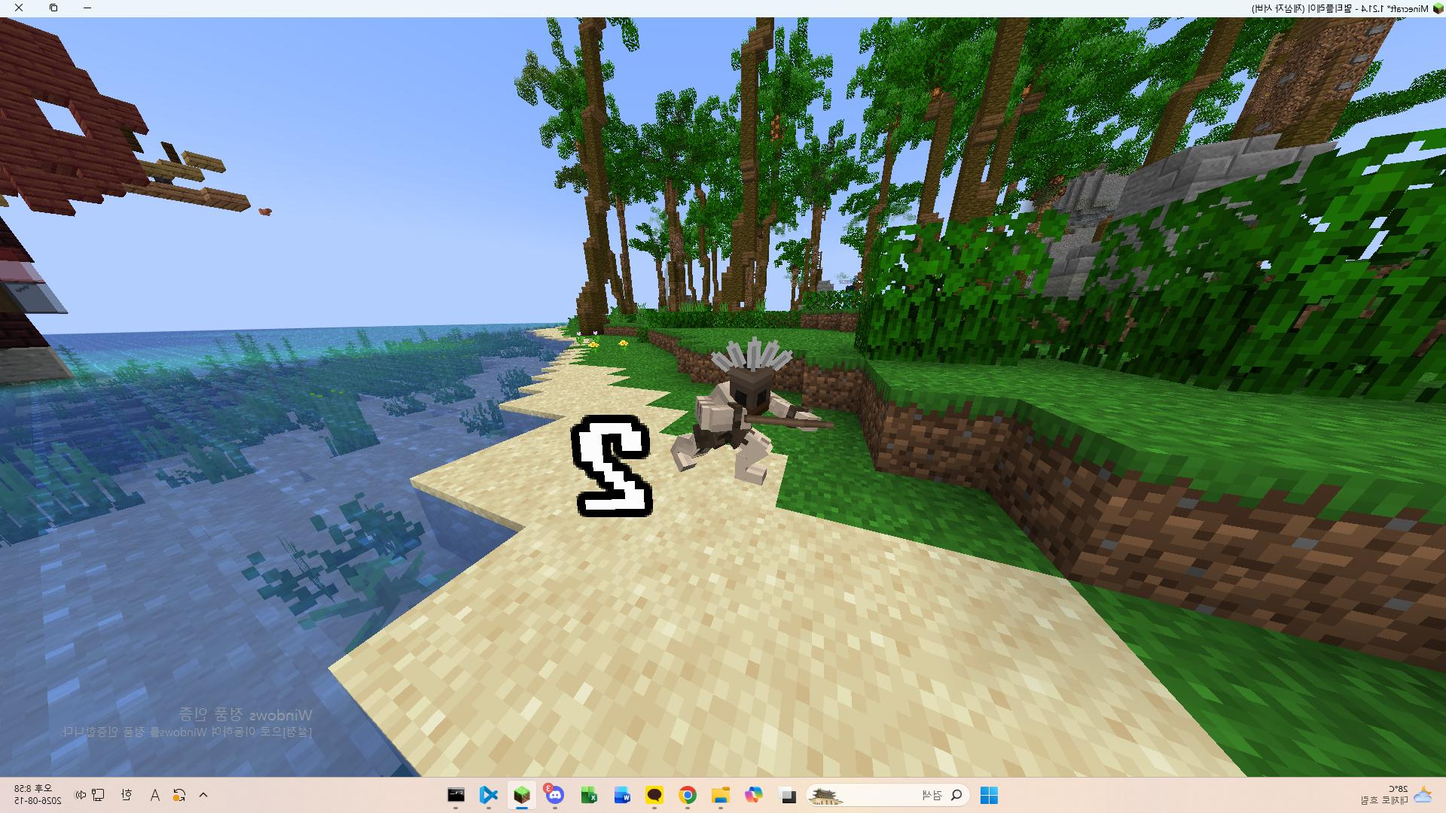bow_indian: (652, 336, 840, 503)
